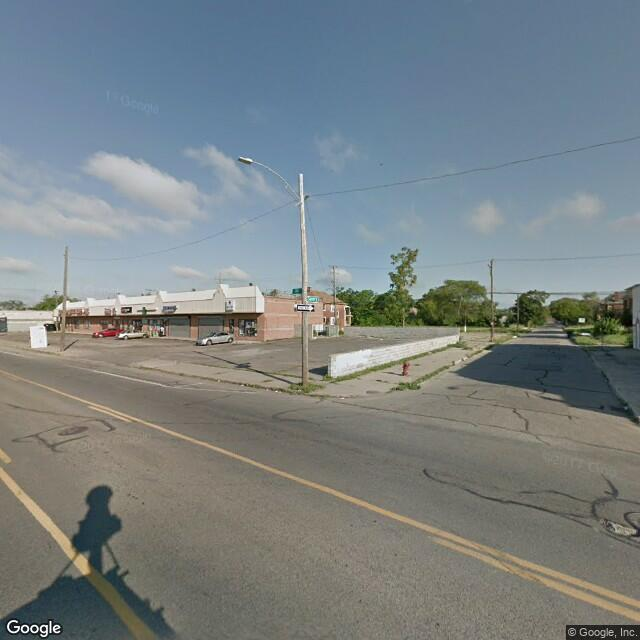litter: (624, 404, 630, 411), (340, 394, 344, 401), (218, 377, 222, 384), (275, 389, 280, 392), (265, 387, 269, 390), (239, 383, 247, 384)
